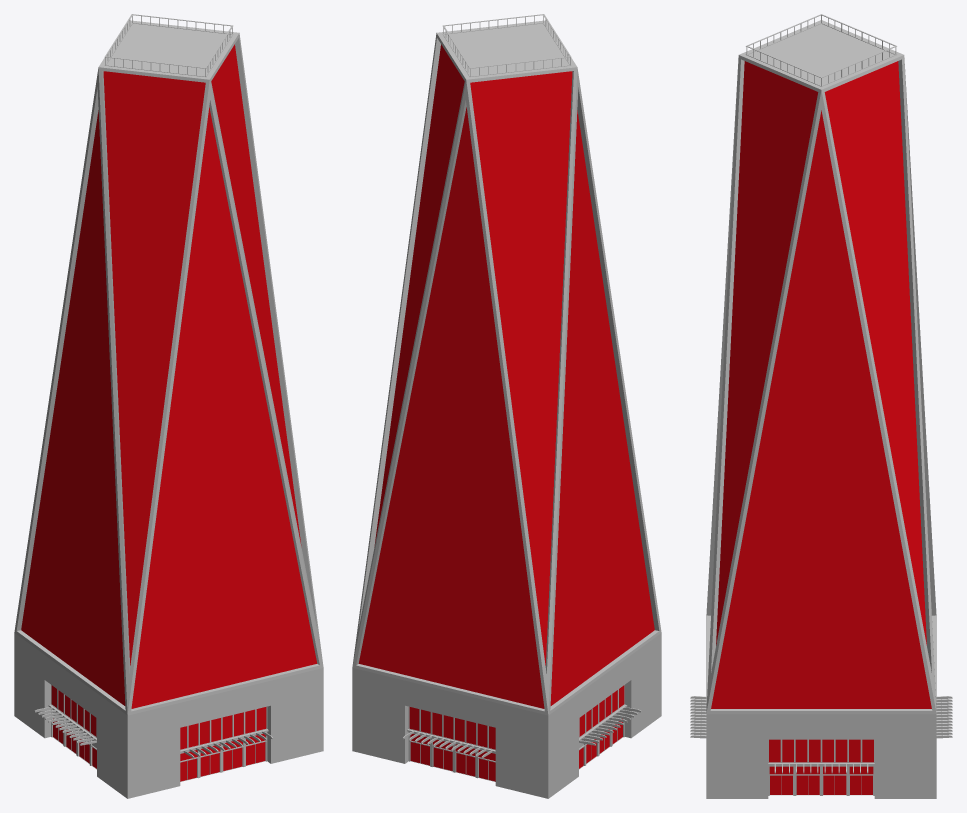
File: SM_skyscraper_04.gltf
The picture shows the model from 3 angles, left to right: view 1: azimuth 30°, elevation 25°; view 2: azimuth 150°, elevation 25°; view 3: azimuth 270°, elevation 25°; orthographic projection.
Parts seen in each view (by area): view 1: skyscraper_04; view 2: skyscraper_04; view 3: skyscraper_04.
Boxes of the visible parts, x1,y1,x2,y2 form: skyscraper_04: (14, 14, 323, 798); skyscraper_04: (352, 14, 661, 798); skyscraper_04: (690, 14, 952, 798).
Bounding box in the file's own units: 28 × 83.05 × 28.
